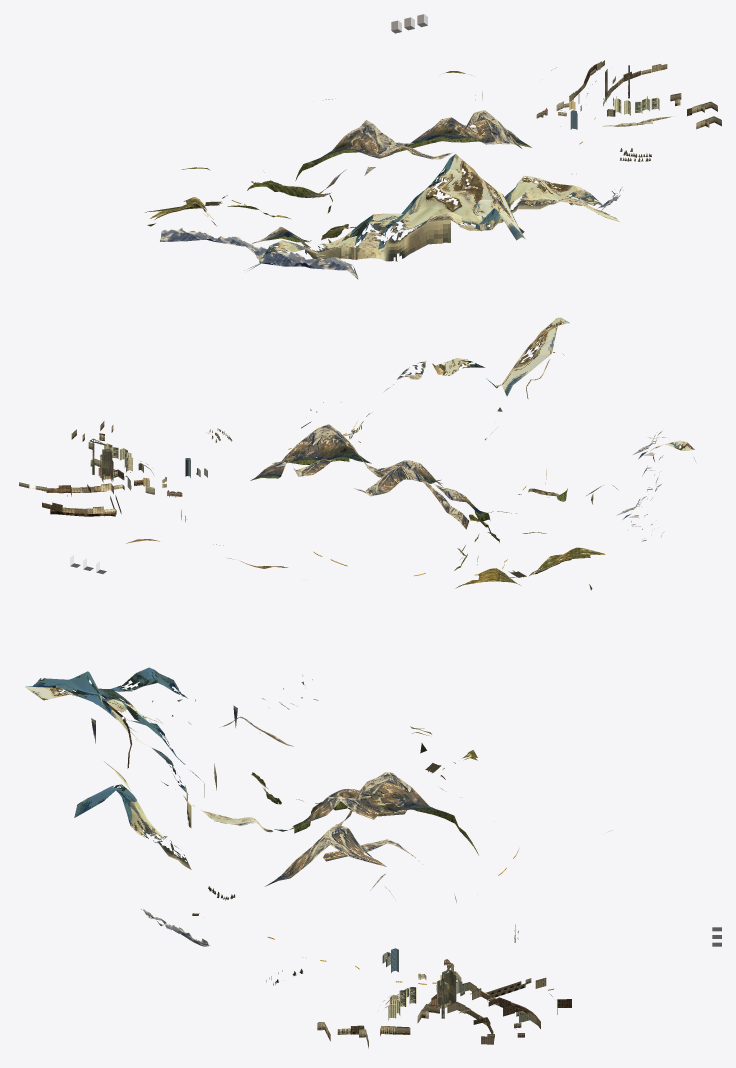
Rendered from track-EU_C2_V2_env.glb.
The picture shows the model from 3 angles, top to bottom: view 1: azimuth 30°, elevation 25°; view 2: azimuth 150°, elevation 25°; view 3: azimuth 270°, elevation 25°; orthographic projection. The views are drawn at different scales.
Parts seen in each view (by area): view 1: EU_C2_V2_env; view 2: EU_C2_V2_env; view 3: EU_C2_V2_env.
Boxes of the visible parts, x1,y1,x2,y2 form: EU_C2_V2_env: (145, 14, 721, 279); EU_C2_V2_env: (19, 317, 695, 590); EU_C2_V2_env: (24, 667, 721, 1048).
Bounding box in the file's own units: 4786 × 986 × 3857.
Materials: 52 (51 with a texture image).
